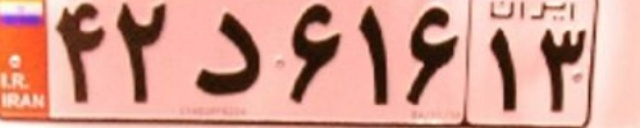1: (357, 5, 389, 105), (486, 26, 519, 110)
2: (113, 2, 169, 103)
3: (538, 28, 591, 112)
4: (52, 2, 107, 104)
6: (288, 1, 344, 104), (408, 6, 456, 107)
dal: (190, 10, 264, 94)
